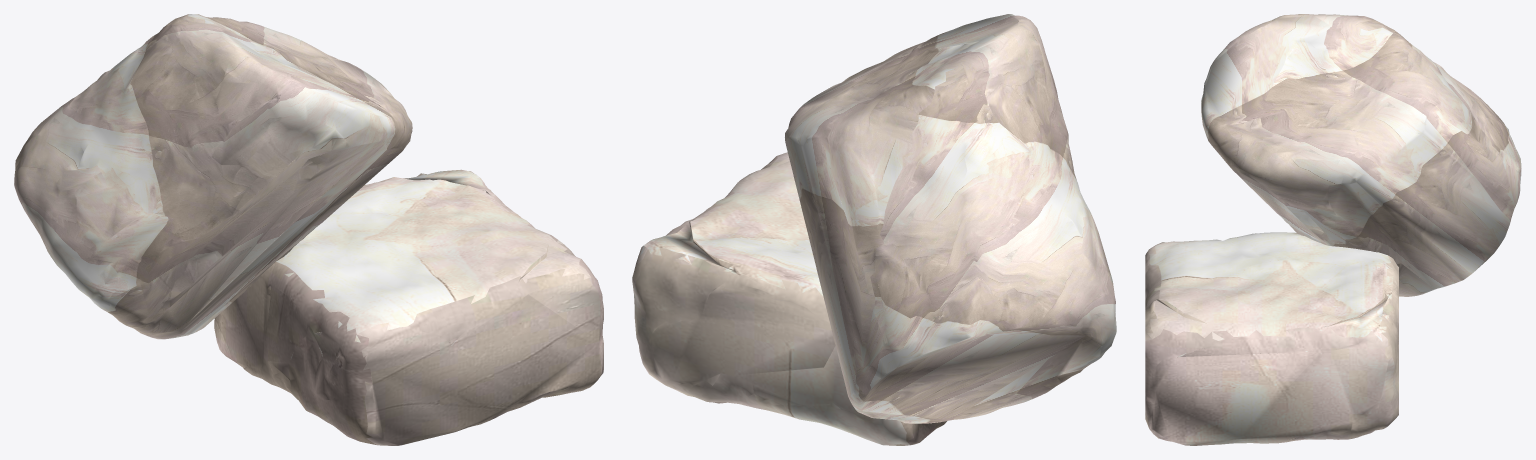
File: ruinA.fbx
3 views of the same model, side by side, from view 1: azimuth 30°, elevation 25°; view 2: azimuth 150°, elevation 25°; view 3: azimuth 270°, elevation 25° (orthographic). The views are drawn at different scales.
Visible parts, largest first — view 1: ruinA, Cylinder078; view 2: ruinA, Cylinder078; view 3: ruinA, Cylinder078.
Part boxes in pixels (x1,y1,x2,y2): ruinA: [14, 14, 412, 339]; Cylinder078: [214, 169, 603, 445]; ruinA: [785, 14, 1116, 423]; Cylinder078: [632, 152, 946, 445]; ruinA: [1201, 14, 1521, 296]; Cylinder078: [1145, 232, 1398, 445].
Size of the model in its own units: 330 by 263 by 290.
